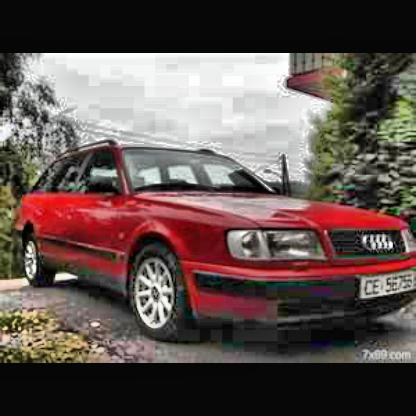Audi 100 Wagon 1994: (24, 142, 416, 343)
